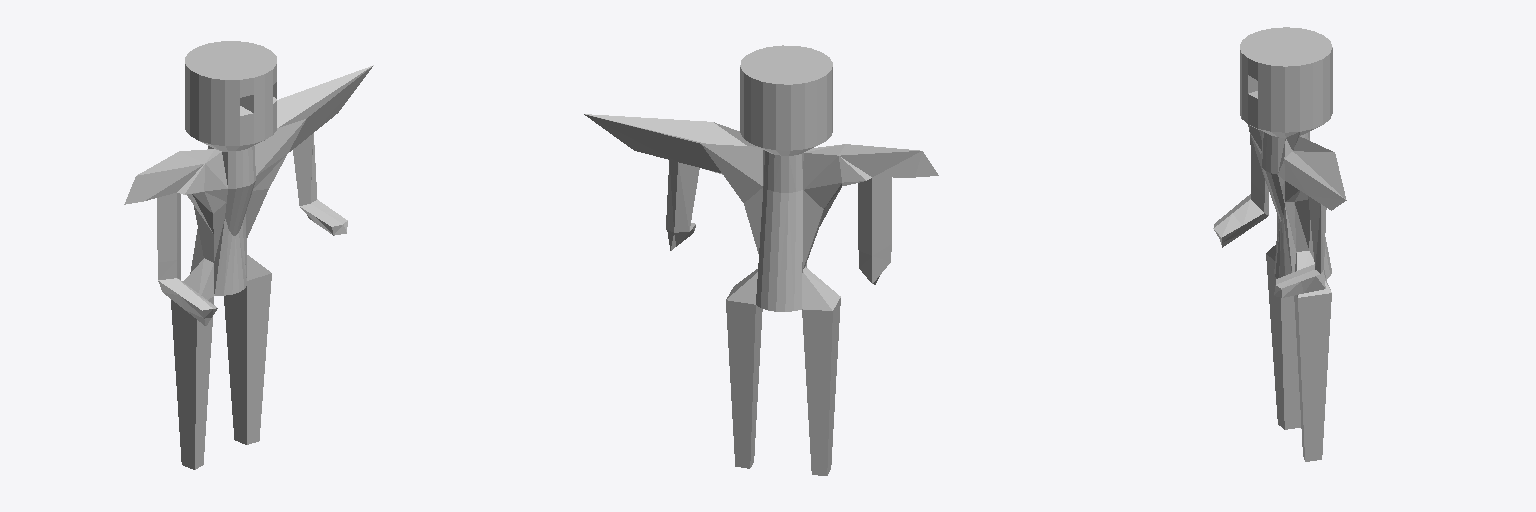
File: robo.obj
The picture shows the model from 3 angles: view 1: azimuth 30°, elevation 25°; view 2: azimuth 150°, elevation 25°; view 3: azimuth 270°, elevation 25°; orthographic projection.
Parts seen in each view (by area): view 1: robo:pCylinder1; view 2: robo:pCylinder1; view 3: robo:pCylinder1.
Part boxes in pixels (x1,y1,x2,y2): robo:pCylinder1: (124, 41, 373, 469); robo:pCylinder1: (584, 45, 938, 475); robo:pCylinder1: (1213, 27, 1346, 461).
Bounding box in the file's own units: 4.24 × 5.31 × 1.62.